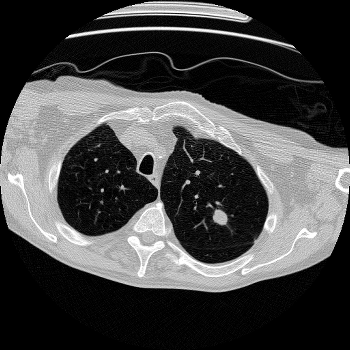nodule: (212, 210, 228, 226)
